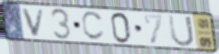0: (110, 11, 133, 45)
3: (49, 7, 72, 41)
7: (143, 13, 164, 46)
C: (80, 10, 106, 42)
U: (167, 14, 196, 48)
V: (21, 8, 47, 38)
